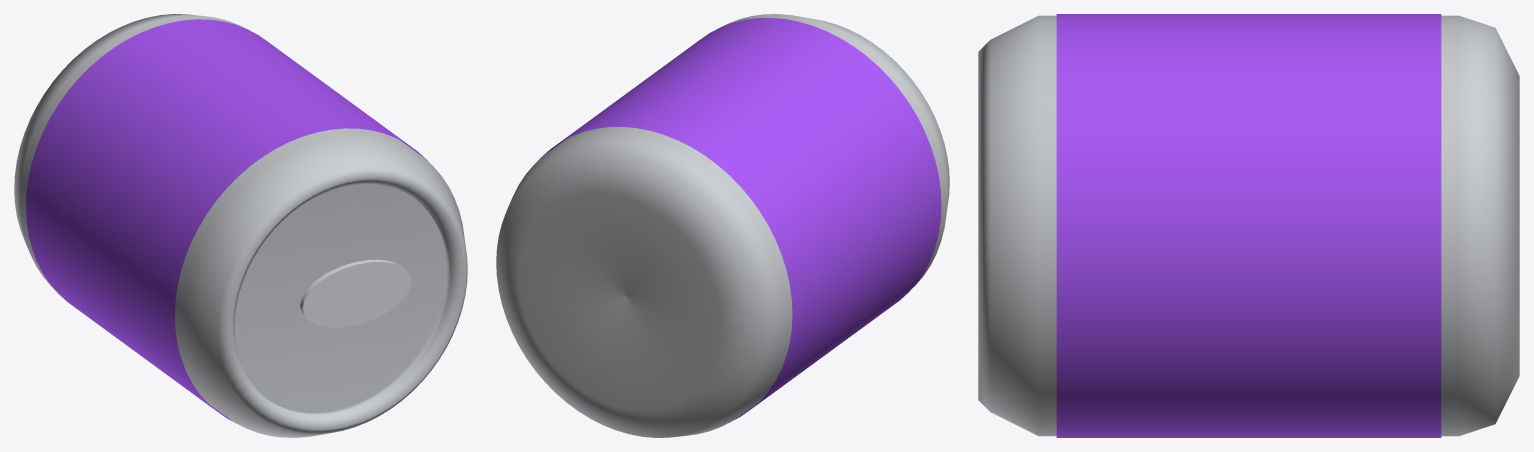
File: canister.obj
The picture shows the model from 3 angles, left to right: view 1: azimuth 30°, elevation 25°; view 2: azimuth 150°, elevation 25°; view 3: azimuth 270°, elevation 25°; orthographic projection. The views are drawn at different scales.
Visible parts, largest first — view 1: canister_0_0, canister_1_650, canister_2_780; view 2: canister_0_0, canister_1_650; view 3: canister_1_650, canister_0_0.
Boxes of the visible parts, <box> form: canister_0_0: <box>14,14,467,437</box>; canister_1_650: <box>26,19,428,422</box>; canister_2_780: <box>300,259,411,327</box>; canister_0_0: <box>496,14,949,437</box>; canister_1_650: <box>538,18,941,422</box>; canister_1_650: <box>1056,14,1441,437</box>; canister_0_0: <box>978,15,1519,436</box>.
Bounding box in the file's own units: 0.0706 × 0.0706 × 0.09.
